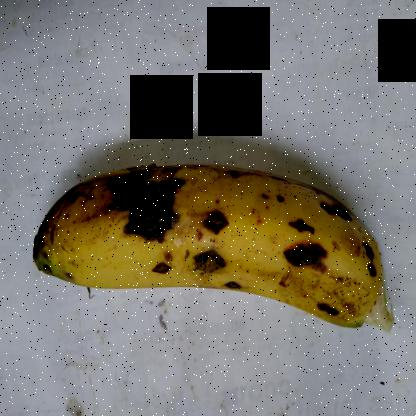ripe: (14, 152, 400, 338)
rotten: (107, 141, 194, 251), (275, 236, 340, 270), (352, 233, 386, 282), (194, 245, 231, 282), (322, 189, 366, 220), (287, 214, 323, 249), (204, 198, 232, 243), (312, 292, 348, 326), (146, 251, 178, 287), (222, 266, 249, 291)
